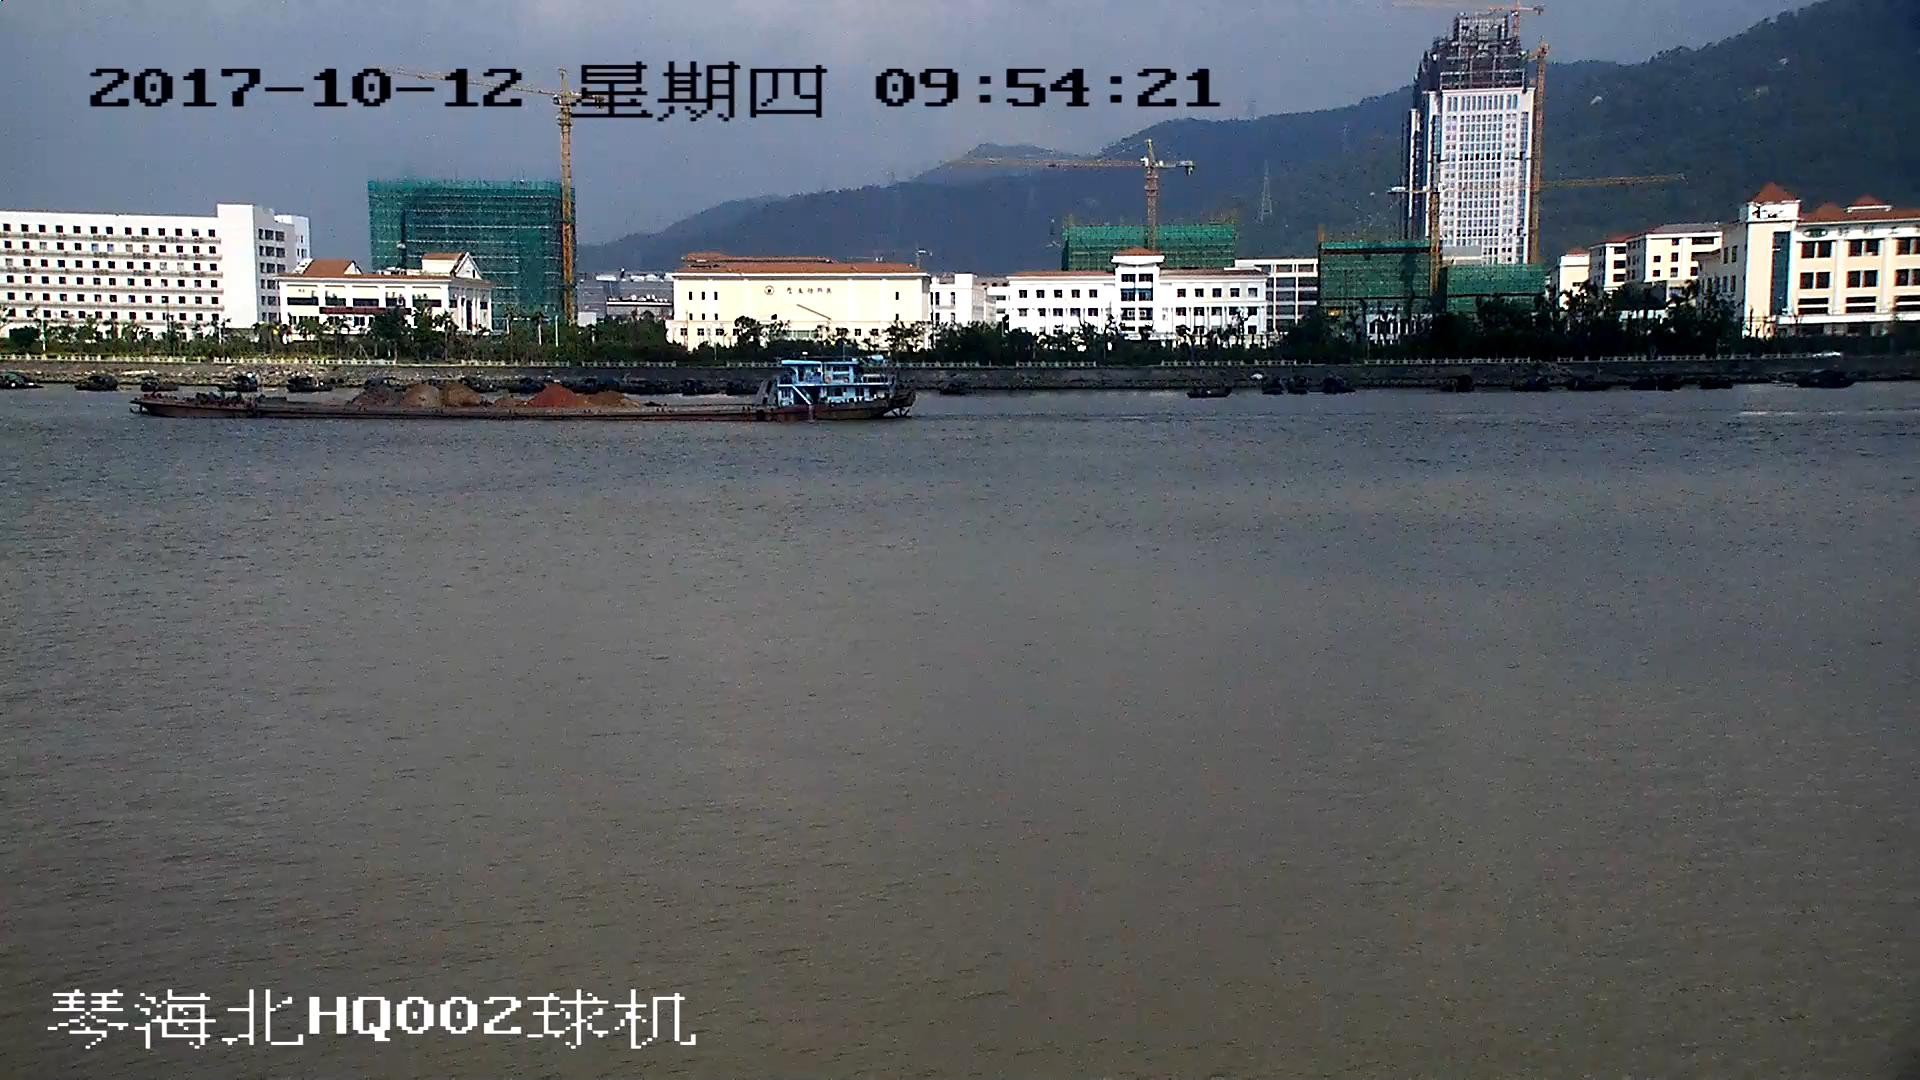ore carrier: (138, 355, 912, 426)
